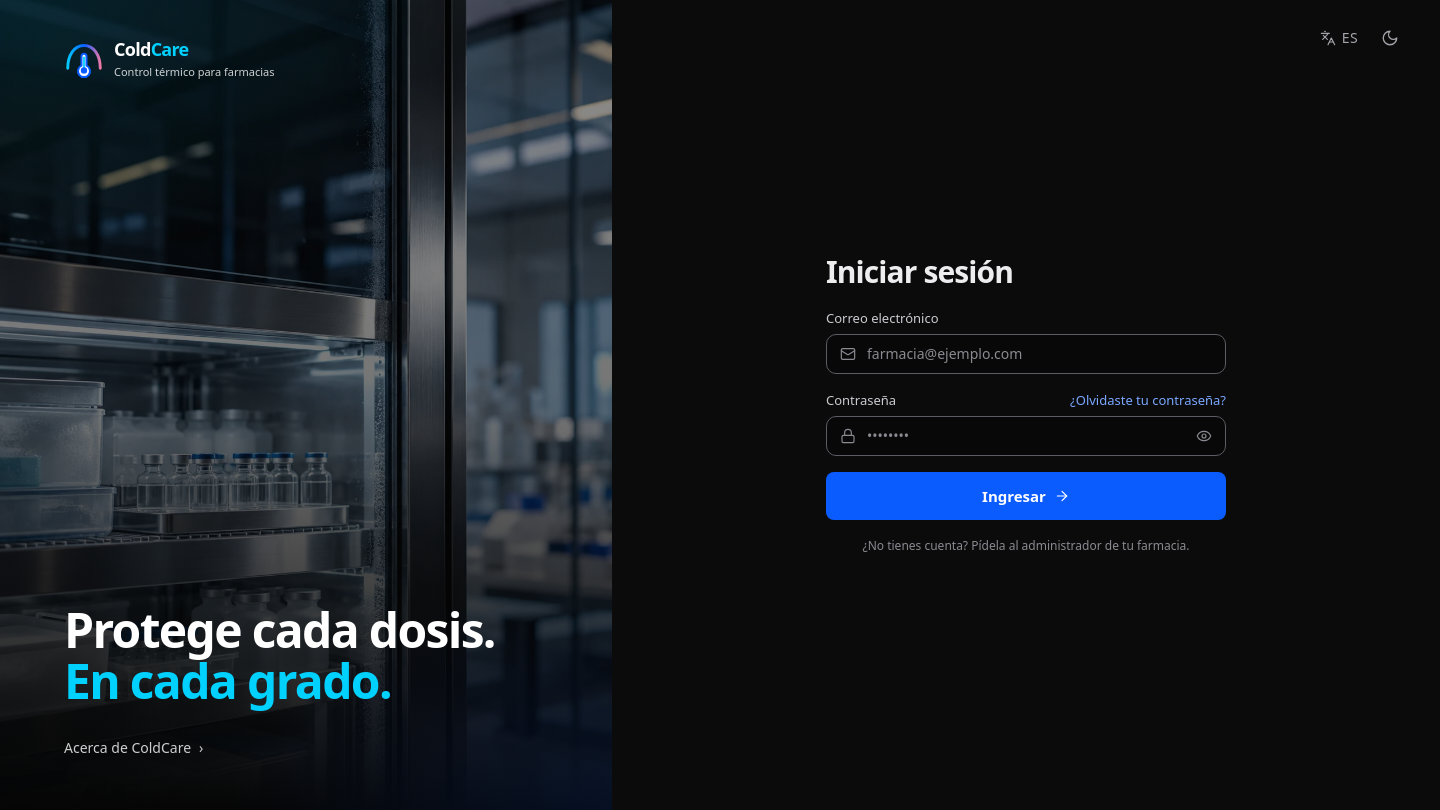
Test: Login con código › intentos agotados obliga a volver a iniciar sesión
The width and height of the screenshot is (1440, 810).
In the field labelled "Correo electrónico": [1026, 354] box [826, 334, 1226, 374], type "farmaceutico@upc.pe"
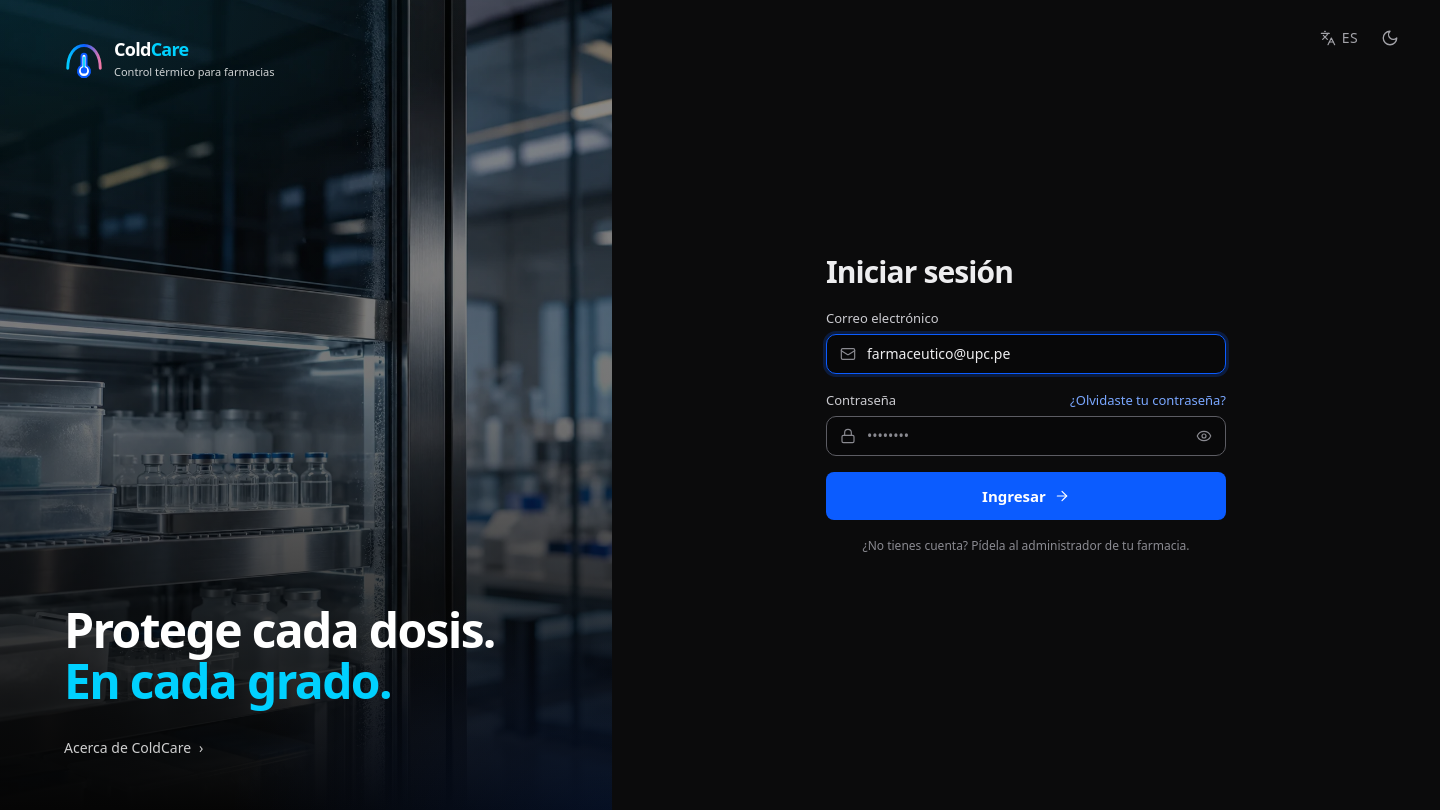
In the password field labelled "Contraseña": [1026, 436] box [826, 416, 1226, 456], type "Secreta-2026"
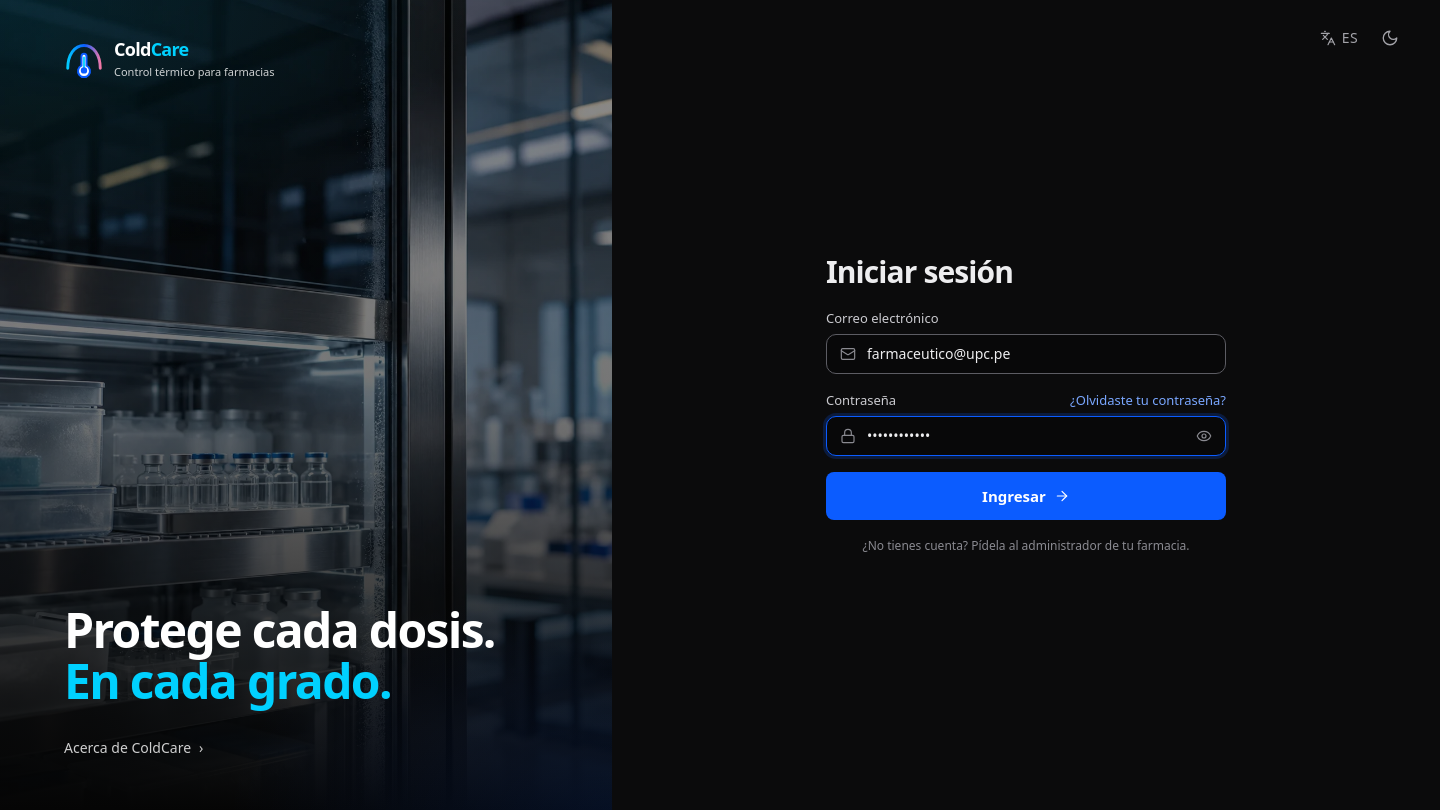
Click the button "Ingresar": [1026, 496] box [826, 472, 1226, 520]
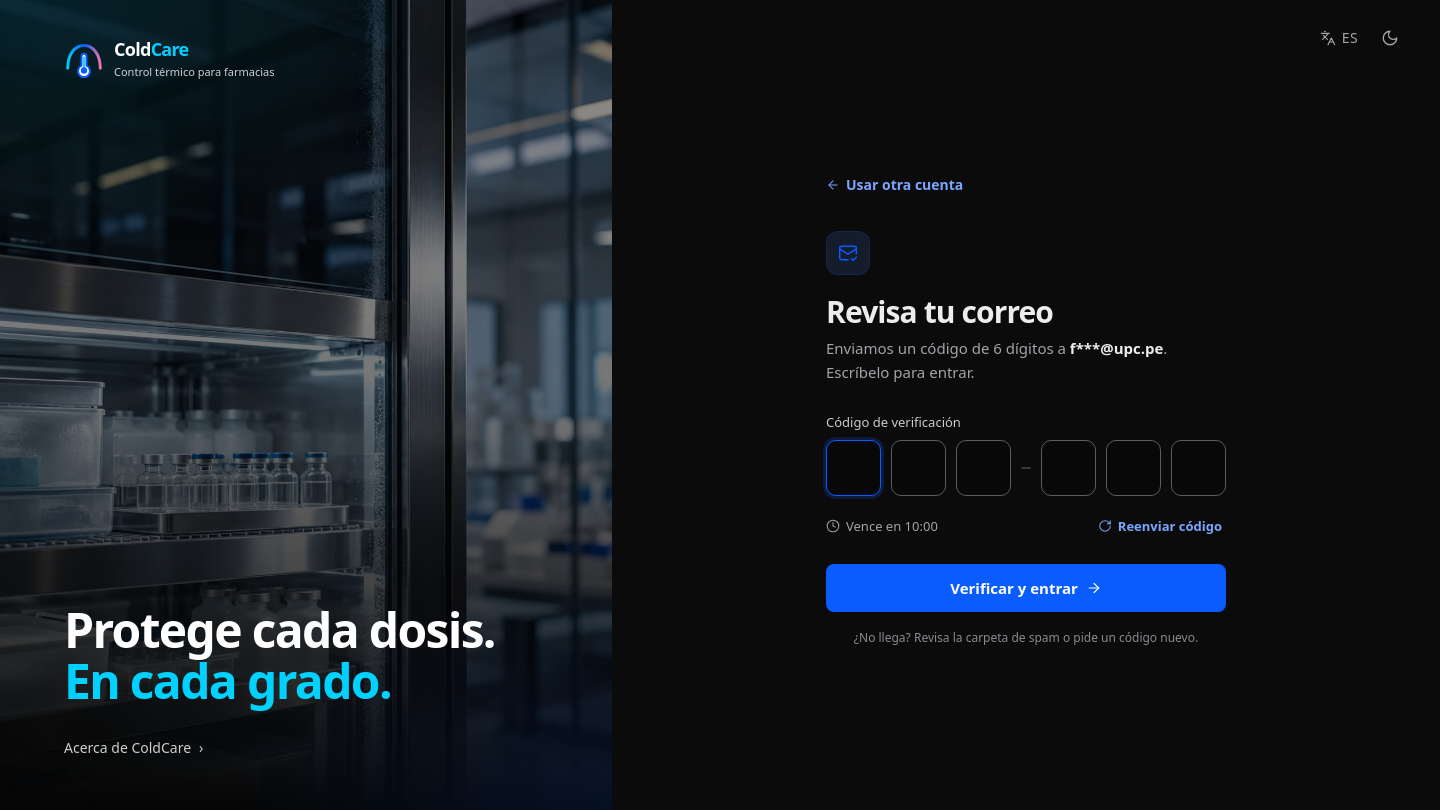
Expected: the heading "Revisa tu correo" is shown, [826, 290, 1053, 332]
Type keys "999999"
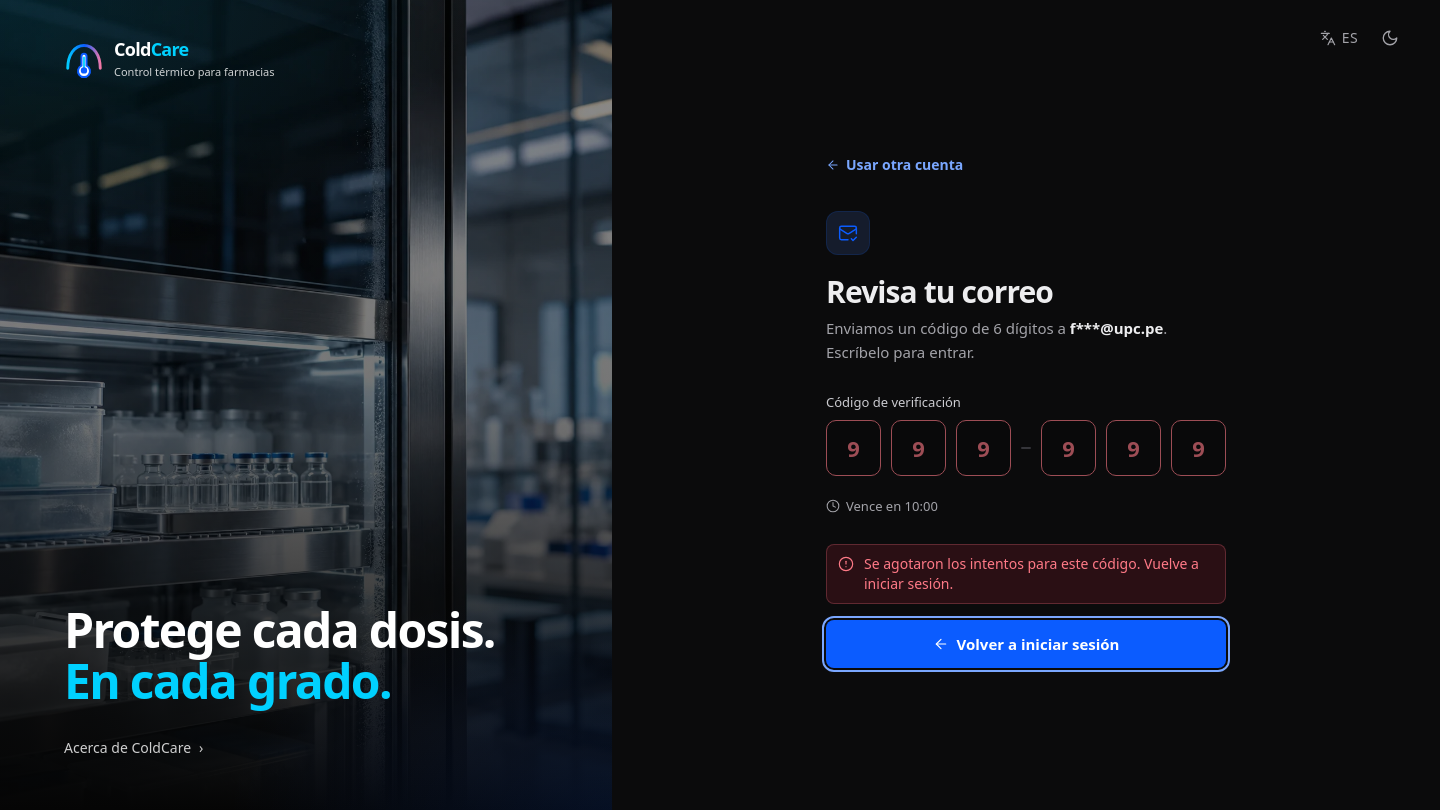
Expected: the message "Se agotaron los intentos para este código. Vuelve a iniciar sesión." is shown, [826, 544, 1226, 604]
Expected: the field named "Dígito 1 de 6" is disabled, [826, 420, 881, 476]
Click the button "Volver a iniciar sesión": [1026, 644] box [826, 620, 1226, 668]
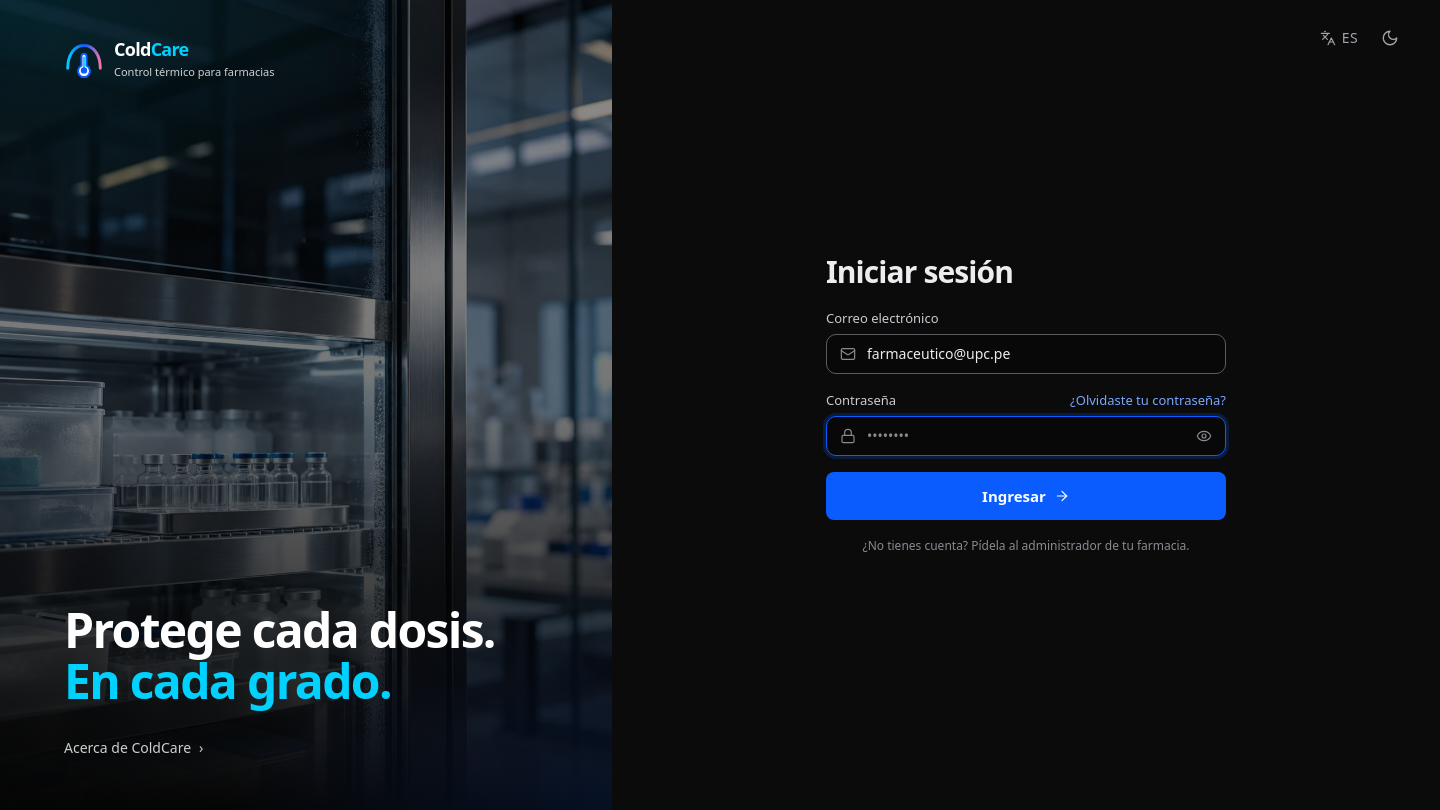
Expected: the heading "Iniciar sesión" is shown, [826, 250, 1013, 292]
Expected: the field labelled "Correo electrónico" holds "farmaceutico@upc.pe", [826, 334, 1226, 374]
Expected: the password field labelled "Contraseña" is empty, [826, 416, 1226, 456]
